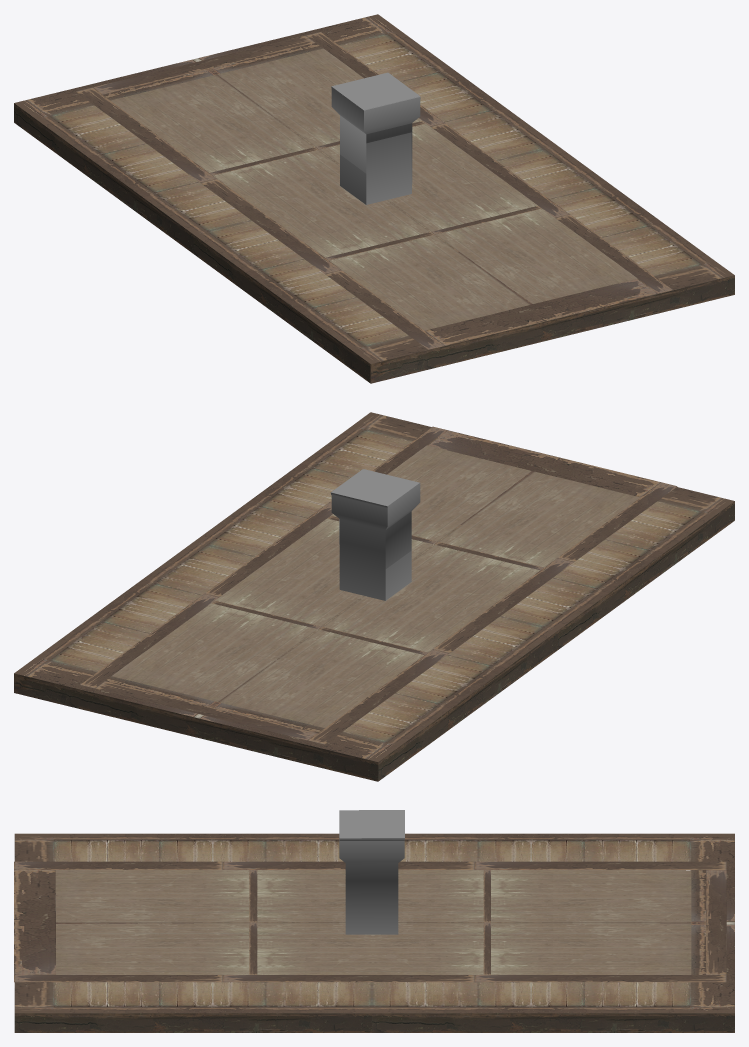
Rendered from outside_model_02_arena.FBX.
The picture shows the model from 3 angles, top to bottom: view 1: azimuth 30°, elevation 25°; view 2: azimuth 150°, elevation 25°; view 3: azimuth 270°, elevation 25°; orthographic projection.
Visible parts, largest first — view 1: outside_model_02_arena001, outside_model_02_arena002, outside_model_02_arena003; view 2: outside_model_02_arena001, outside_model_02_arena002, outside_model_02_arena003; view 3: outside_model_02_arena001, outside_model_02_arena003, outside_model_02_arena002.
Boxes of the visible parts, x1,y1,x2,y2 form: outside_model_02_arena001: [14, 14, 734, 383]; outside_model_02_arena002: [331, 87, 420, 204]; outside_model_02_arena003: [331, 72, 420, 193]; outside_model_02_arena001: [14, 412, 734, 781]; outside_model_02_arena002: [331, 469, 420, 600]; outside_model_02_arena003: [330, 469, 419, 589]; outside_model_02_arena001: [14, 833, 734, 1032]; outside_model_02_arena003: [339, 810, 404, 934]; outside_model_02_arena002: [339, 810, 404, 862].
Bounding box in the file's own units: 15.07 × 4.67 × 25.58.
